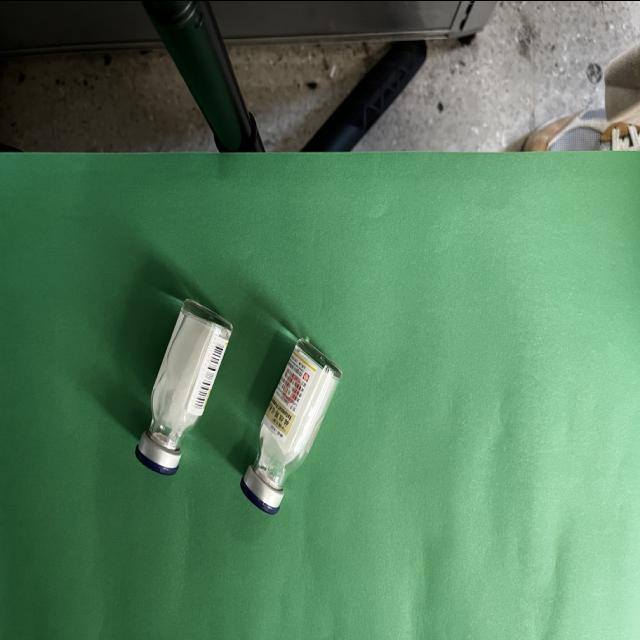Vials: (240, 337, 342, 515), (134, 301, 232, 475)
